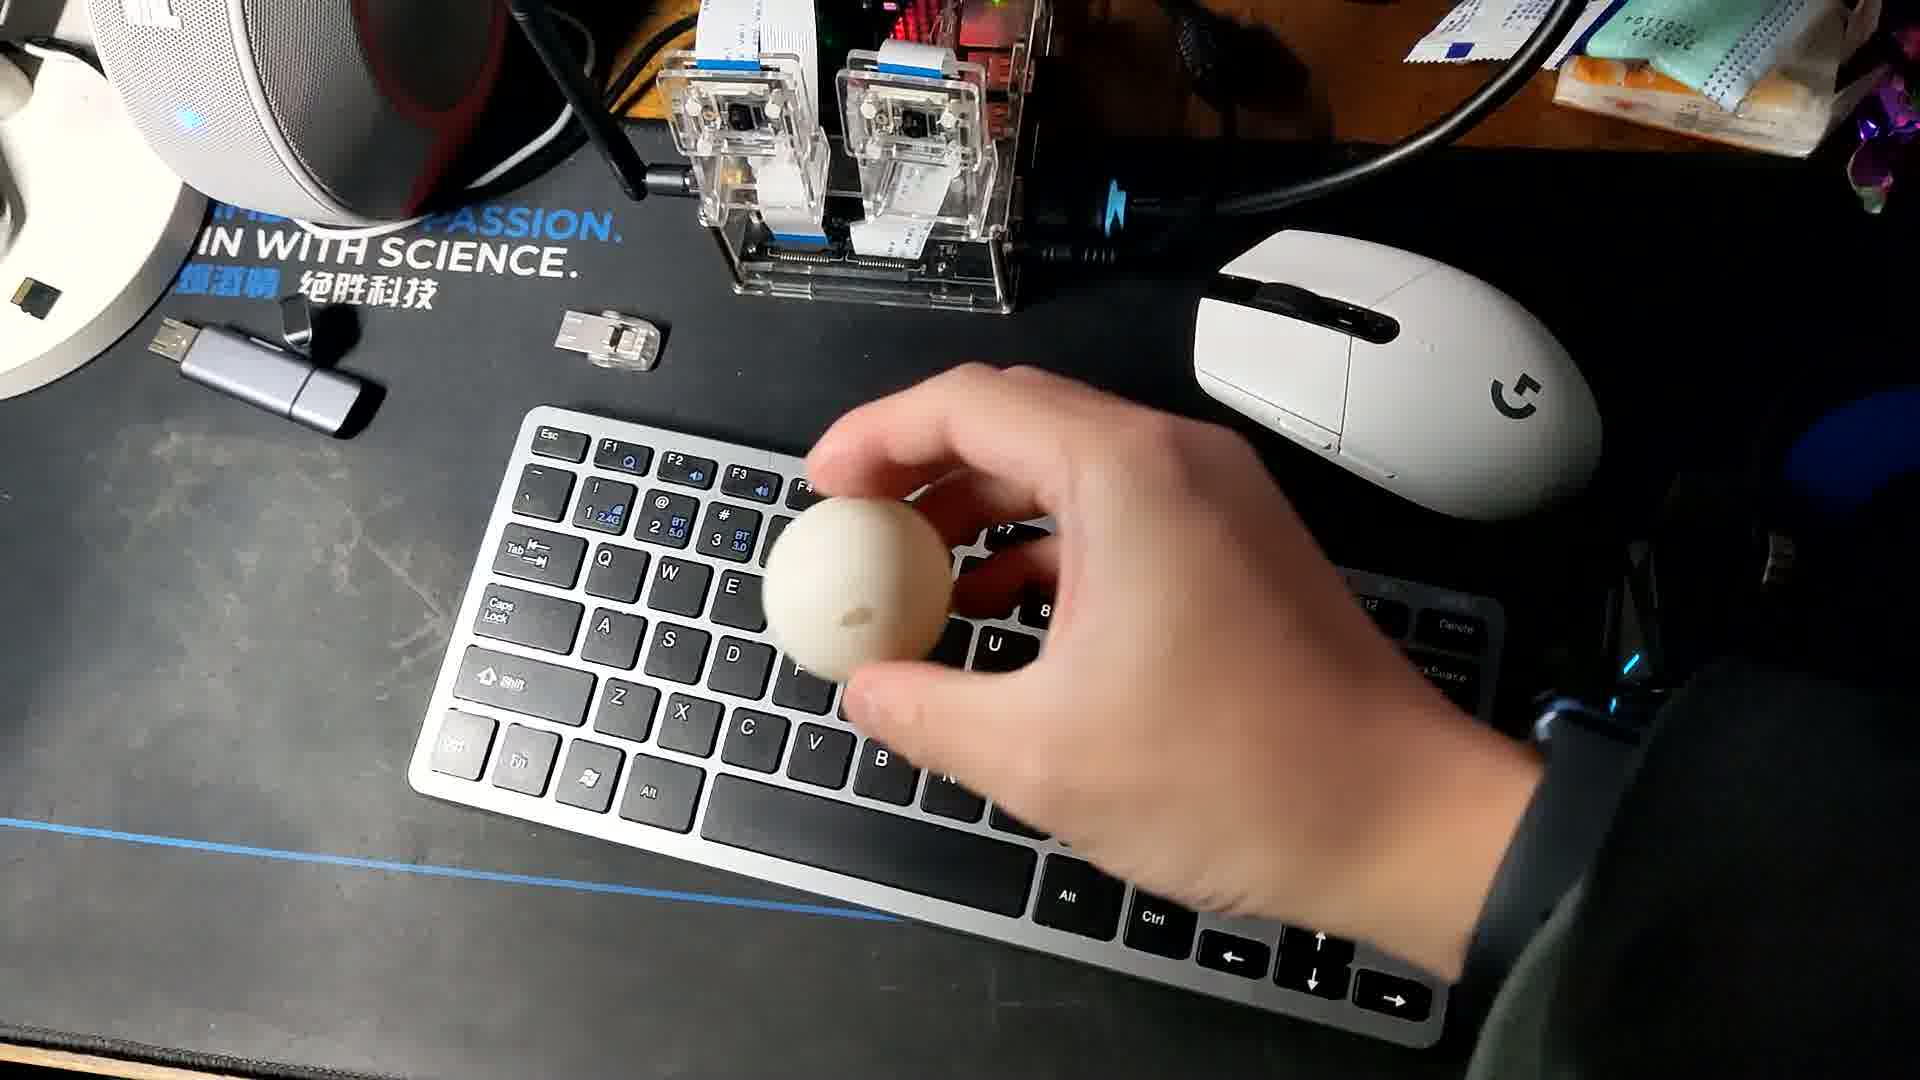Ball: (767, 498, 952, 676)
